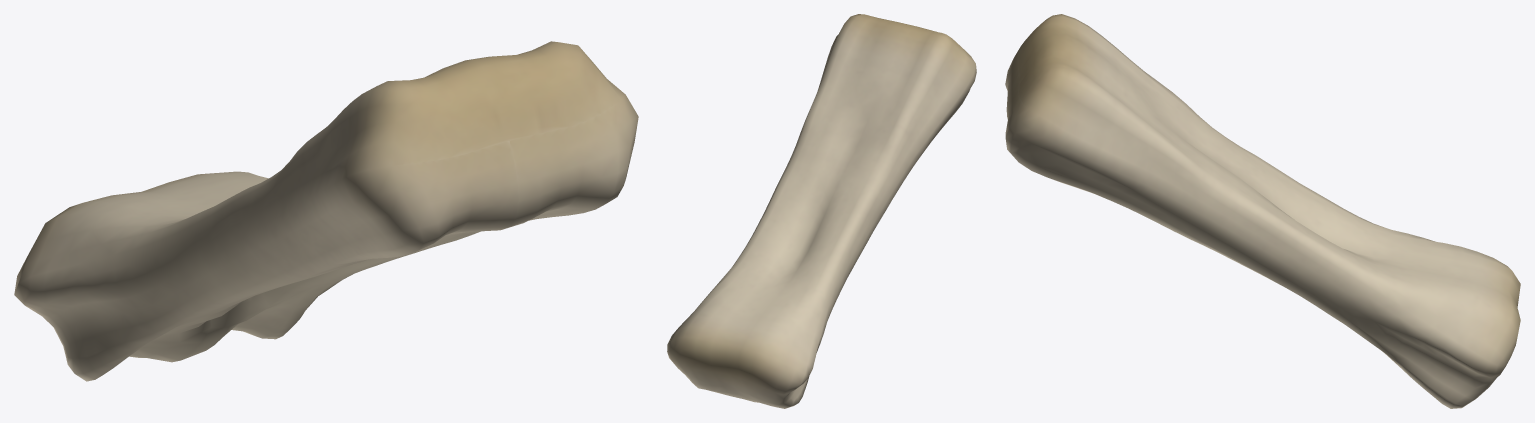
File: vertebrae caudales 13.fbx
3 renders of one model, left to right at view 1: azimuth 30°, elevation 25°; view 2: azimuth 150°, elevation 25°; view 3: azimuth 270°, elevation 25°, orthographic. The views are drawn at different scales.
Visible parts, largest first — view 1: vertebrae caudales 13; view 2: vertebrae caudales 13; view 3: vertebrae caudales 13.
Boxes of the visible parts, box(x1,y1,x2,y2) form: vertebrae caudales 13: box(14, 41, 638, 381); vertebrae caudales 13: box(667, 14, 976, 408); vertebrae caudales 13: box(1005, 14, 1520, 408).
Bounding box in the file's own units: 2.05 × 3.66 × 5.07.
